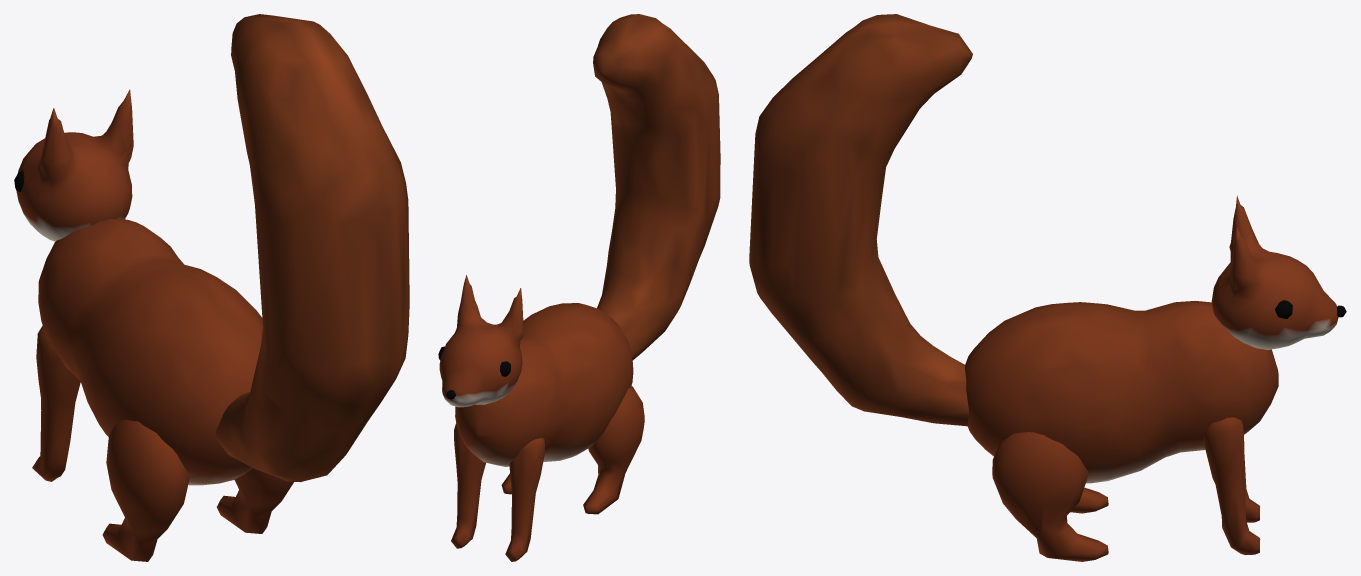
Rendered from animal_squirrel.glb.
3 renders of one model, left to right at view 1: azimuth 30°, elevation 25°; view 2: azimuth 150°, elevation 25°; view 3: azimuth 270°, elevation 25°, orthographic. The views are drawn at different scales.
Visible parts, largest first — view 1: Tail, Body, Head, LegBL, LegFL, LegBR; view 2: Tail, Body, Head, LegBL, LegFL, LegFR; view 3: Tail, Body, Head, LegBR, LegFR.
Part boxes in pixels (x1,y1,x2,y2): Tail: (216, 14, 409, 482); Body: (38, 219, 262, 485); Head: (14, 89, 133, 241); LegBL: (102, 420, 189, 561); LegFL: (32, 325, 80, 481); LegBR: (217, 468, 293, 533); Tail: (593, 14, 720, 360); Body: (455, 303, 633, 466); Head: (438, 275, 523, 407); LegBL: (583, 385, 644, 514); LegFL: (505, 438, 544, 561); LegFR: (451, 423, 485, 548); Tail: (749, 14, 972, 426); Body: (965, 301, 1278, 483); Head: (1211, 195, 1346, 349); LegBR: (992, 432, 1108, 561); LegFR: (1203, 417, 1260, 554).
Bounding box in the file's own units: 0.0932 × 0.2993 × 0.3129.
